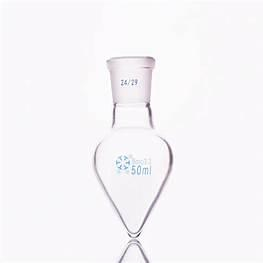Pear shaped flask: (85, 42, 178, 237)
